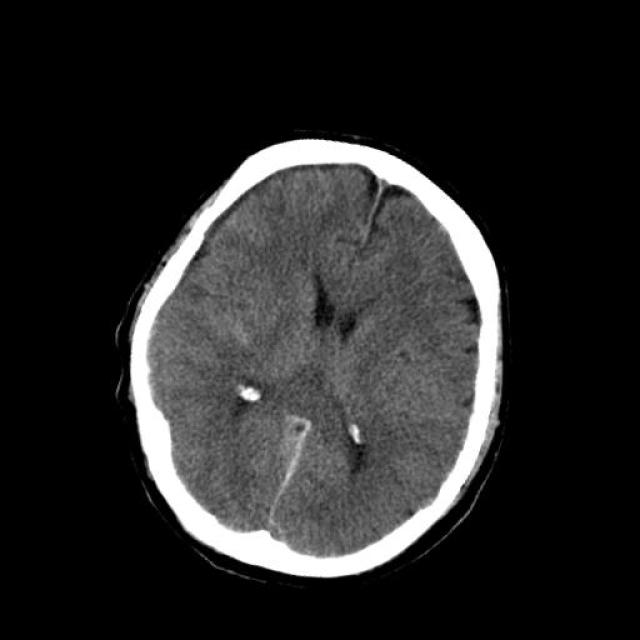Subdural: (235, 408, 324, 548)
